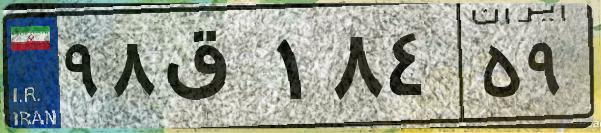1: (270, 28, 330, 110)
4: (385, 28, 445, 110)
5: (475, 38, 525, 113)
8: (330, 28, 385, 110), (110, 28, 158, 98)
9: (57, 26, 110, 100), (525, 38, 570, 115)
ق: (158, 20, 270, 120)
